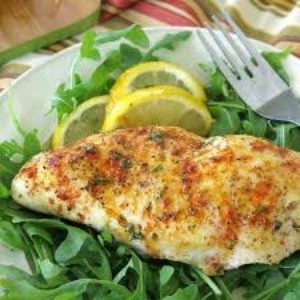chicken breast_brain food: (72, 116, 262, 257)
